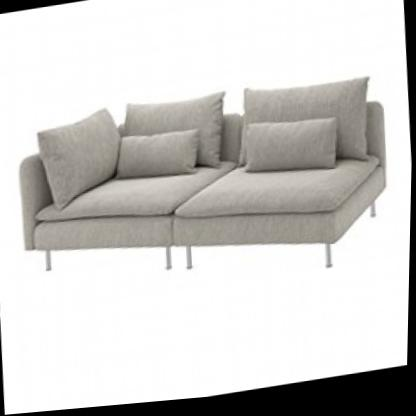Sofa: (3, 45, 405, 330)
